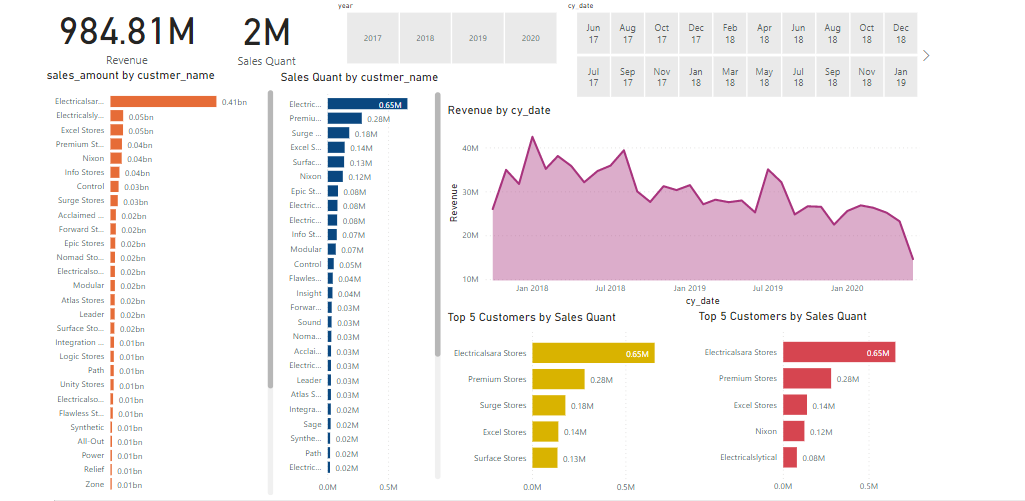

Layout of this report page (visuals, bound fields, positions):
{"tool":"powerbi","page":{"name":"Page 1","canvas":[1300,720],"ordinal":0},"visuals":[{"type":"card","fields":{"Values":["New Measures.Revenue"]},"box":[10.1,0,221.3,100.6],"z":0},{"type":"card","fields":{"Values":["New Measures.Sales Quant"]},"box":[231.4,0,179.6,103.5],"z":1000},{"type":"barChart","fields":{"Y":["Sum(sales transactions.sales_amount)"],"Category":["sales customers.custmer_name"]},"box":[0,100.6,336.3,619.4],"z":2000},{"type":"barChart","fields":{"Category":["sales customers.custmer_name"],"Y":["New Measures.Sales Quant"]},"box":[336.3,103.5,240,616.5],"z":3000},{"type":"slicer","fields":{"Values":["sales date.year"]},"box":[411,0,350.7,100.6],"z":4000},{"type":"slicer","fields":{"Values":["sales date.cy_date"]},"box":[741.6,0,538.9,149.5],"z":5000},{"type":"barChart","title":"Top 5 Customers by Sales Quant","fields":{"Category":["sales customers.custmer_name"],"Y":["New Measures.Sales Quant"]},"box":[576.3,448.4,360.7,271.6],"z":6000},{"type":"barChart","title":"Top 5 Customers by Sales Quant","fields":{"Category":["sales customers.custmer_name"],"Y":["New Measures.Sales Quant"]},"box":[937,446.9,343.5,273.1],"z":7000},{"type":"stackedAreaChart","fields":{"Category":["sales date.cy_date"],"Y":["New Measures.Revenue"]},"box":[577,150.3,703,297.1],"z":8000}]}

Visuals, with their boxes on the page's 1300x720 design canvas (x1, y1, x2, y2). These are canvas units, not pixel positions in the 1025x501 screenshot, which may show the page scaled, cropped or inside an application window:
card - New Measures.Revenue: bbox(10, 0, 231, 101)
card - New Measures.Sales Quant: bbox(231, 0, 411, 104)
barChart - Sum(sales transactions.sales_amount) x sales customers.custmer_name: bbox(0, 101, 336, 720)
barChart - sales customers.custmer_name x New Measures.Sales Quant: bbox(336, 104, 576, 720)
slicer - sales date.year: bbox(411, 0, 762, 101)
slicer - sales date.cy_date: bbox(742, 0, 1280, 150)
"Top 5 Customers by Sales Quant" barChart: bbox(576, 448, 937, 720)
"Top 5 Customers by Sales Quant" barChart: bbox(937, 447, 1280, 720)
stackedAreaChart - sales date.cy_date x New Measures.Revenue: bbox(577, 150, 1280, 447)
